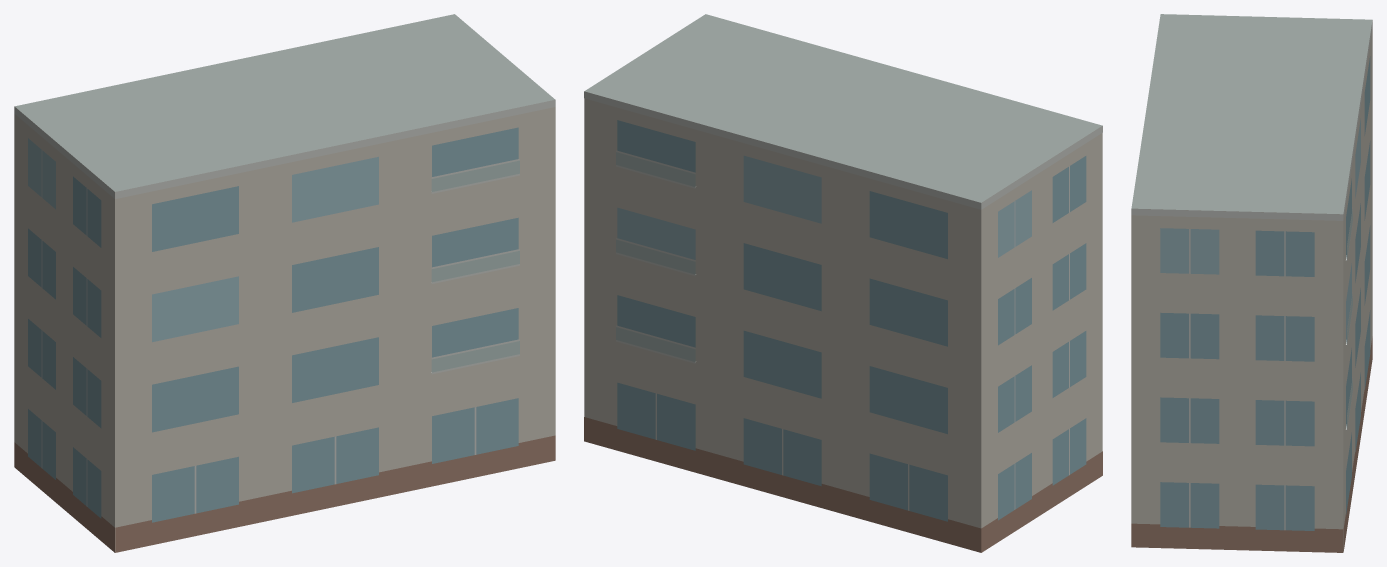
Rendered from survey-upis-32815477.glb.
3 views of the same model, side by side, from view 1: azimuth 30°, elevation 25°; view 2: azimuth 150°, elevation 25°; view 3: azimuth 270°, elevation 25° (orthographic). The views are drawn at different scales.
Parts seen in each view (by area): view 1: survey-upis-32815477.tmp; view 2: survey-upis-32815477.tmp; view 3: survey-upis-32815477.tmp.
Part boxes in pixels (x1,y1,x2,y2): survey-upis-32815477.tmp: [14, 14, 555, 552]; survey-upis-32815477.tmp: [584, 14, 1102, 552]; survey-upis-32815477.tmp: [1131, 14, 1372, 552].
Size of the model in its own units: 15.48 by 12.2 by 7.88.
